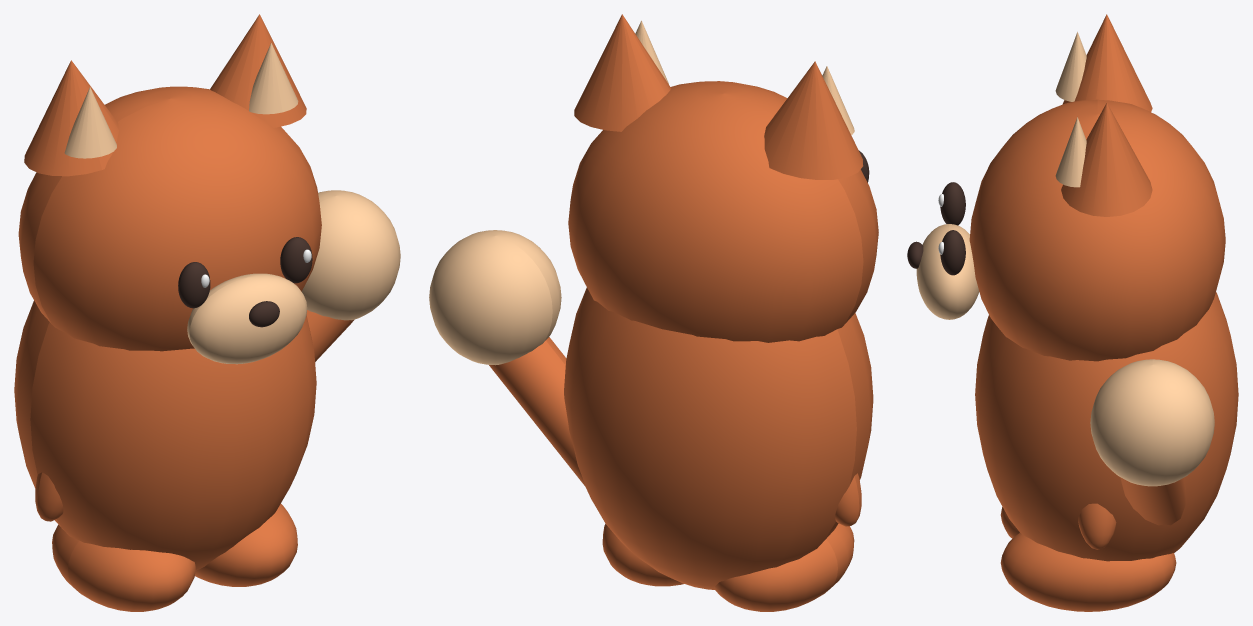
3 views of the same model, side by side, from view 1: azimuth 30°, elevation 25°; view 2: azimuth 150°, elevation 25°; view 3: azimuth 270°, elevation 25° (orthographic). The views are drawn at different scales.
Size of the model in its own units: 2.35 by 3.15 by 1.81.
